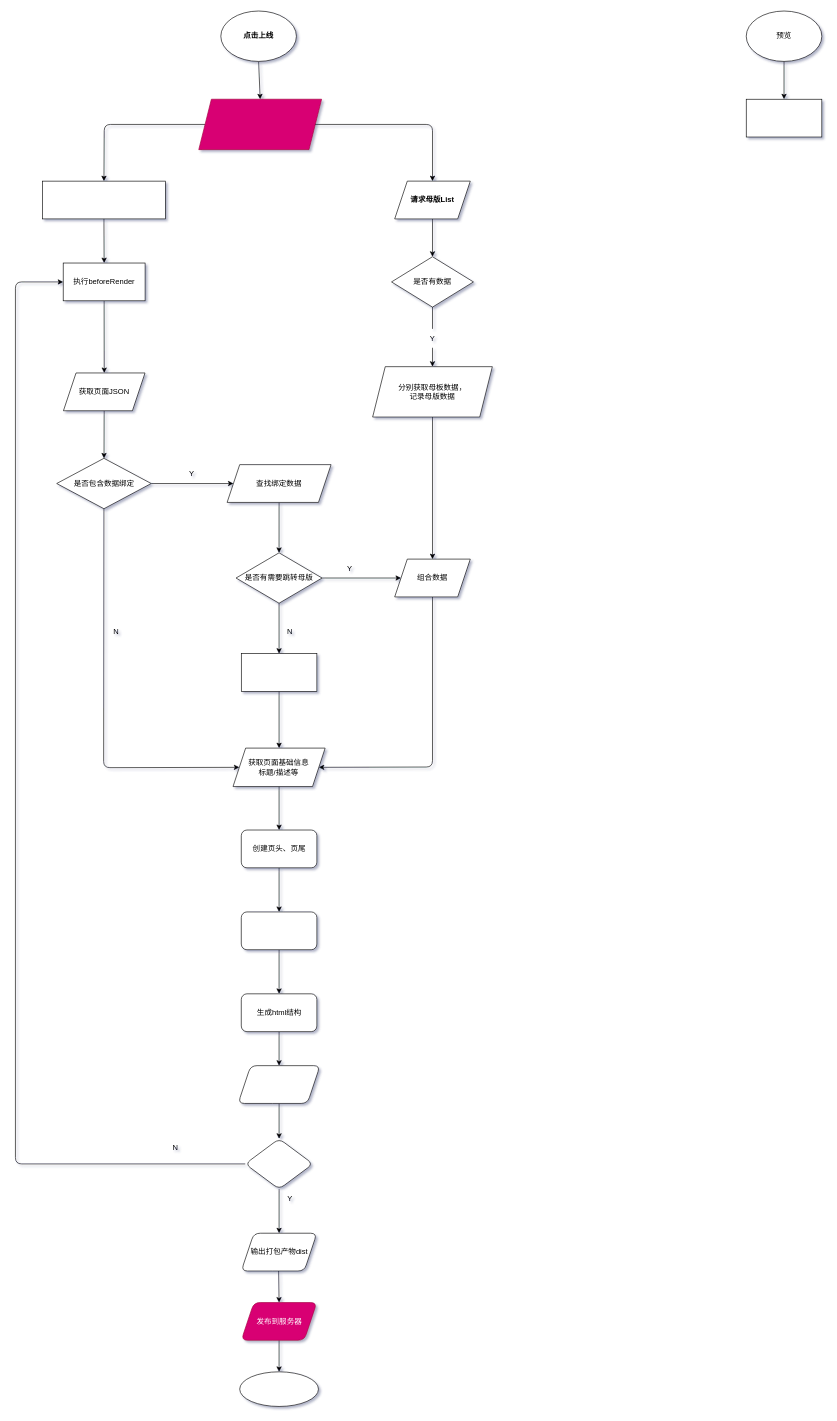
Image size: 837x1421. Some labels were removed from this diagram. Here are the shapes that lost their labels. From the top down, the centre of each, then its label:
At (260,124): "build项目，注入projectId".
At (784,118): "/preview/projectId".
At (103,199): "请求导航数据，获取路由list".
At (279,672): "记录绑定数据".
At (279,930): "创建内容区".
At (279,1084): "根据SEO规则， 输出html文件".
At (279,1163): "页面生成完成".
At (278,1388): "结束".
